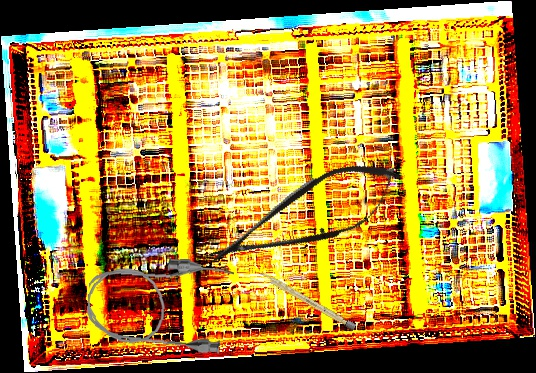Cannula: (84, 250, 235, 356)
Micro Scissor: (197, 145, 413, 289)
Scalpel Handle: (258, 270, 357, 331)
